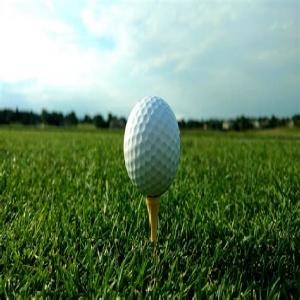Golf: (123, 96, 181, 195)
